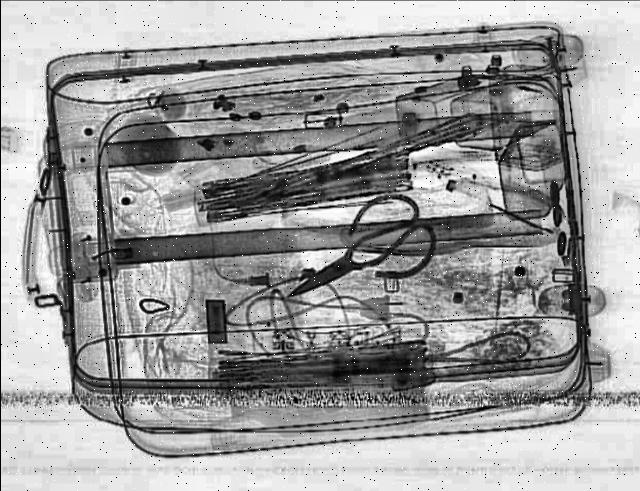Scissors: (250, 186, 466, 330)
